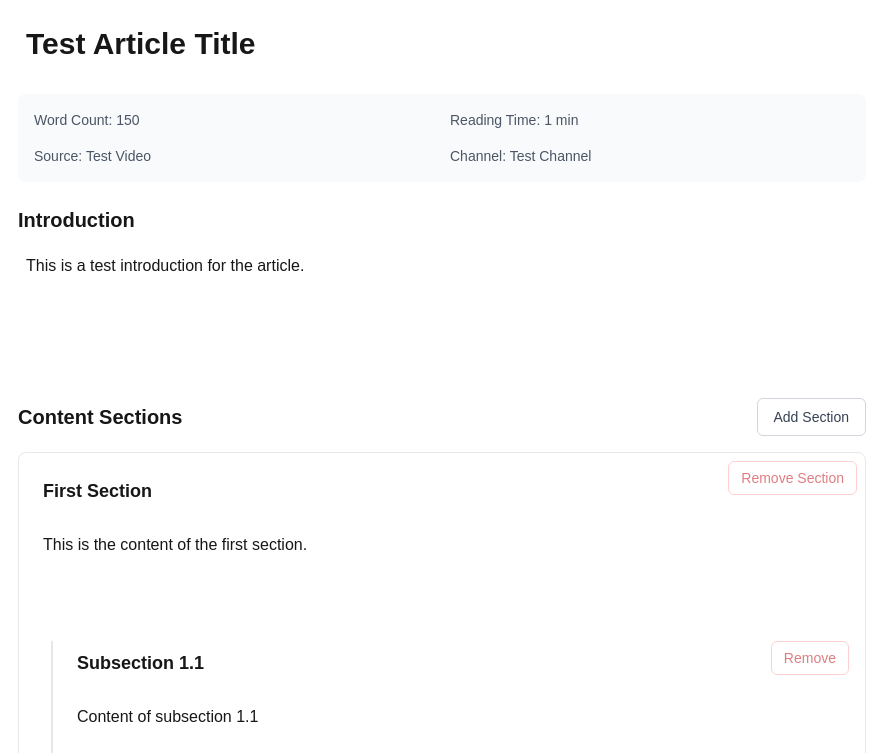
ArticlePreview › cancels editing when escape is pressed
Click the text "Test Article Title" at (141, 44), box [26, 27, 256, 60]
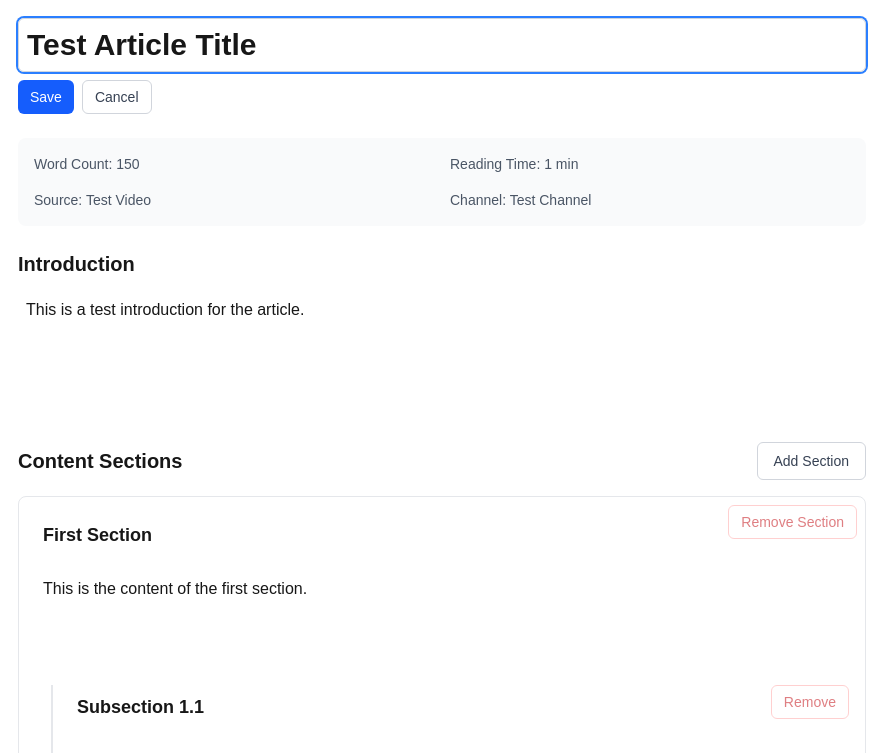
Replace the text in the field showing "Test Article Title" with "Changed Title" at (442, 45), box [18, 18, 866, 72]
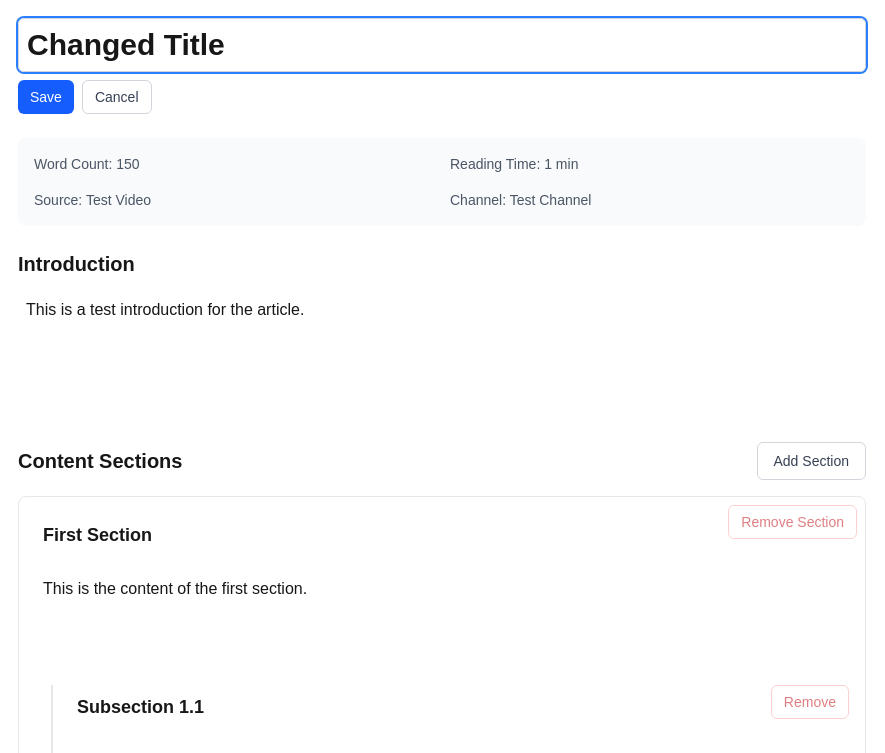
Press Escape in the field showing "Test Article Title", box [18, 18, 866, 72]
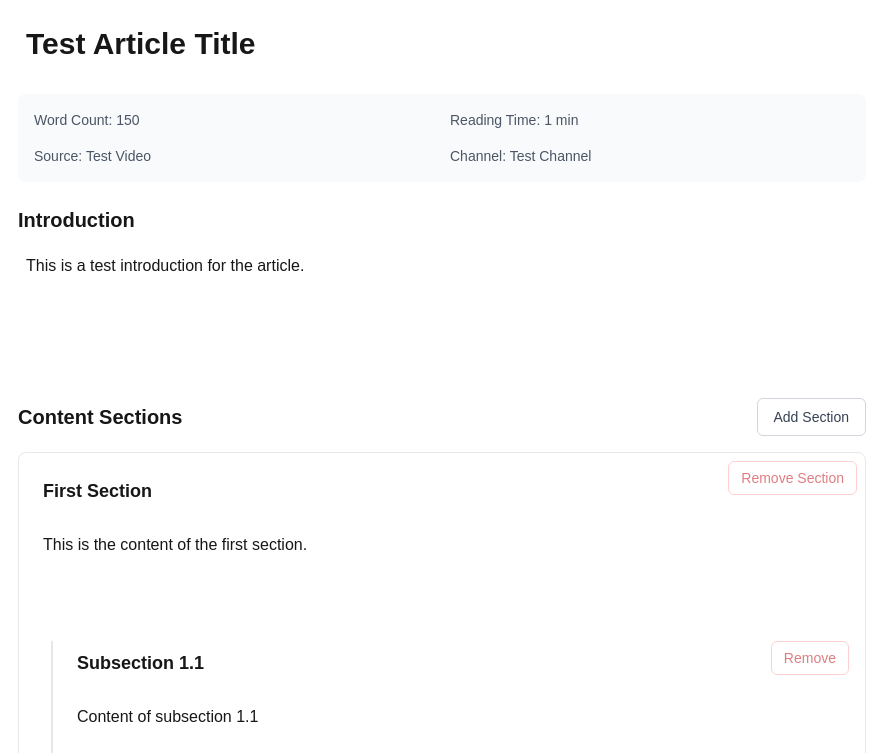
Now the text "Test Article Title" is shown, box [26, 27, 256, 60]
